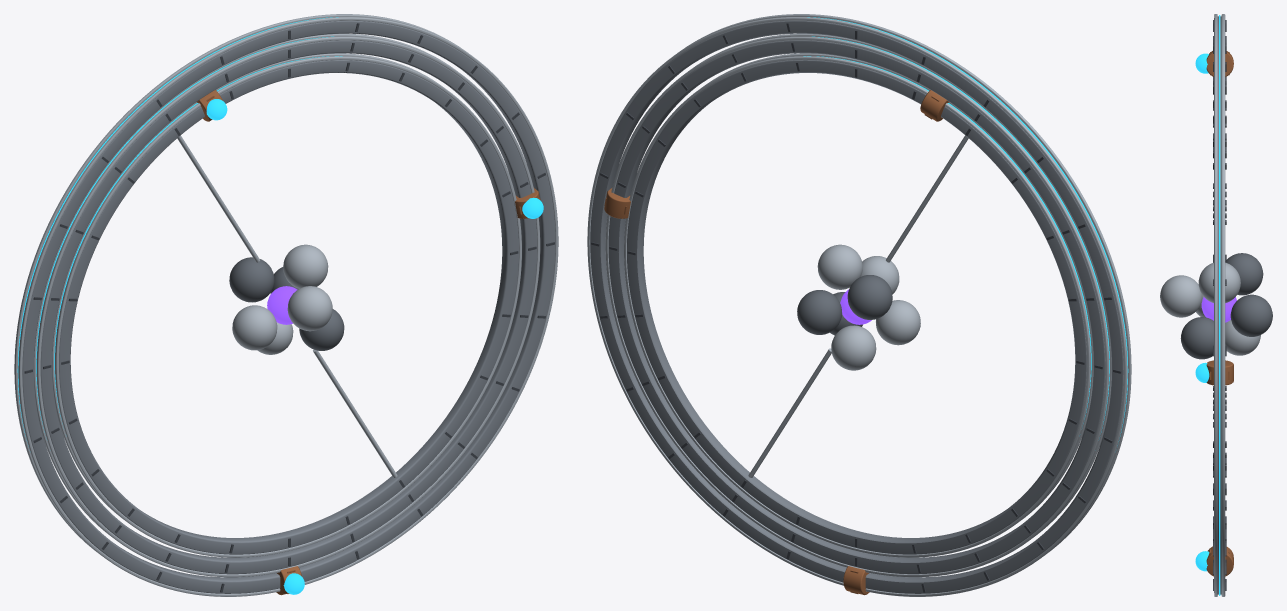
File: atom_03_tri.glb
The picture shows the model from 3 angles, left to right: view 1: azimuth 30°, elevation 25°; view 2: azimuth 150°, elevation 25°; view 3: azimuth 270°, elevation 25°; orthographic projection. The views are drawn at different scales.
Parts seen in each view (by area): view 1: orbit_1_ring, orbit_2_ring, orbit_3_ring, orbit_1_lips, orbit_2_lips, orbit_3_lips, nucleus_protons, nucleus_neutrons, hub_spokes, orbit_1_channel_light, orbit_2_channel_light, nucleus_core_glow (+1 smaller); view 2: orbit_1_ring, orbit_2_ring, orbit_3_ring, orbit_1_lips, orbit_2_lips, orbit_3_lips, nucleus_protons, nucleus_neutrons, hub_spokes, orbit_1_channel_light, orbit_2_channel_light, orbit_3_segments; view 3: orbit_1_lips, nucleus_neutrons, nucleus_protons, orbit_1_ring, orbit_1_channel_light, electron_housing (×3), electron (×3), orbit_1_segments, nucleus_core_glow, orbit_2_segments, orbit_3_segments.
Boxes of the visible parts, x1,y1,x2,y2 form: orbit_1_ring: (22,21,555,593); orbit_2_ring: (40,40,537,574); orbit_3_ring: (59,60,518,554); orbit_1_lips: (14,14,558,596); orbit_2_lips: (34,33,540,577); orbit_3_lips: (52,53,521,557); nucleus_protons: (232,244,332,354); nucleus_neutrons: (229,257,344,350); hub_spokes: (177,135,397,477); orbit_1_channel_light: (17,17,338,445); orbit_2_channel_light: (36,36,333,432); nucleus_core_glow: (267,286,297,324); orbit_1_ring: (590,21,1123,593); orbit_2_ring: (608,40,1105,574); orbit_3_ring: (627,60,1086,554); orbit_1_lips: (587,14,1131,596); orbit_2_lips: (605,33,1111,577); orbit_3_lips: (624,53,1093,557); nucleus_protons: (817,244,920,370); nucleus_neutrons: (797,275,892,335); hub_spokes: (748,135,968,477); orbit_1_channel_light: (807,17,1128,445); orbit_2_channel_light: (812,36,1109,432); orbit_3_segments: (627,62,1084,553); orbit_1_lips: (1214,14,1225,596); nucleus_neutrons: (1180,253,1272,359); nucleus_protons: (1160,262,1260,355); orbit_1_ring: (1214,16,1221,594); orbit_1_channel_light: (1219,15,1220,595); electron_housing (×3): (1206,51,1233,576); electron (×3): (1195,53,1209,571); orbit_1_segments: (1213,20,1226,590); nucleus_core_glow: (1201,297,1236,322); orbit_2_segments: (1213,39,1226,566); orbit_3_segments: (1213,62,1226,547).
Size of the model in its own units: 2.07 by 2.08 by 0.4002.
